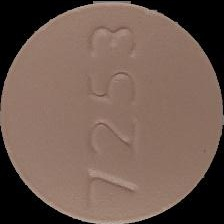35356-749: (0, 0, 224, 224)
